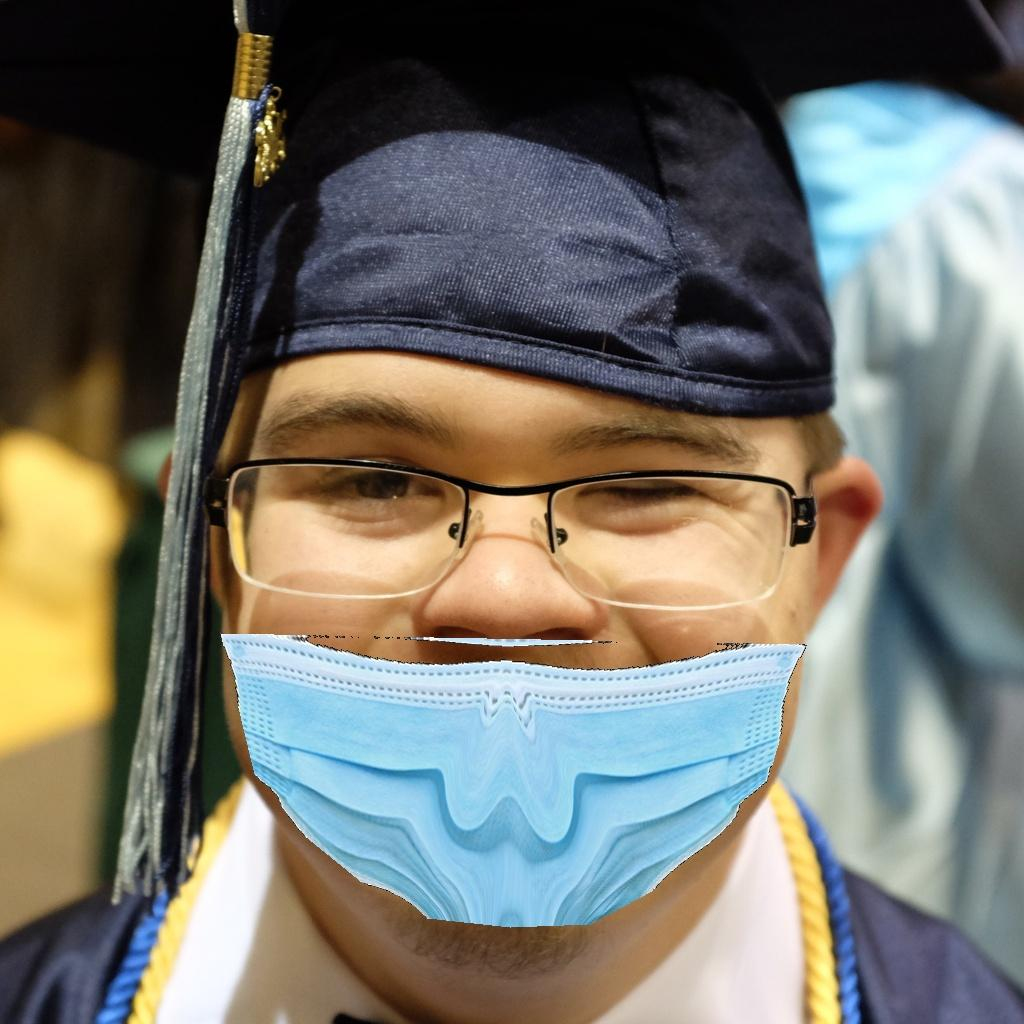Máscara Incorreta: (230, 369, 830, 929)
